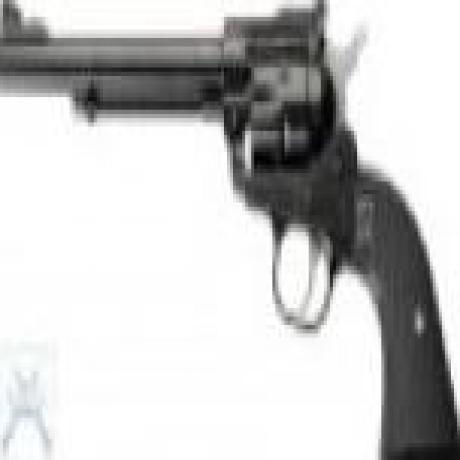weapon: (2, 9, 458, 454)
